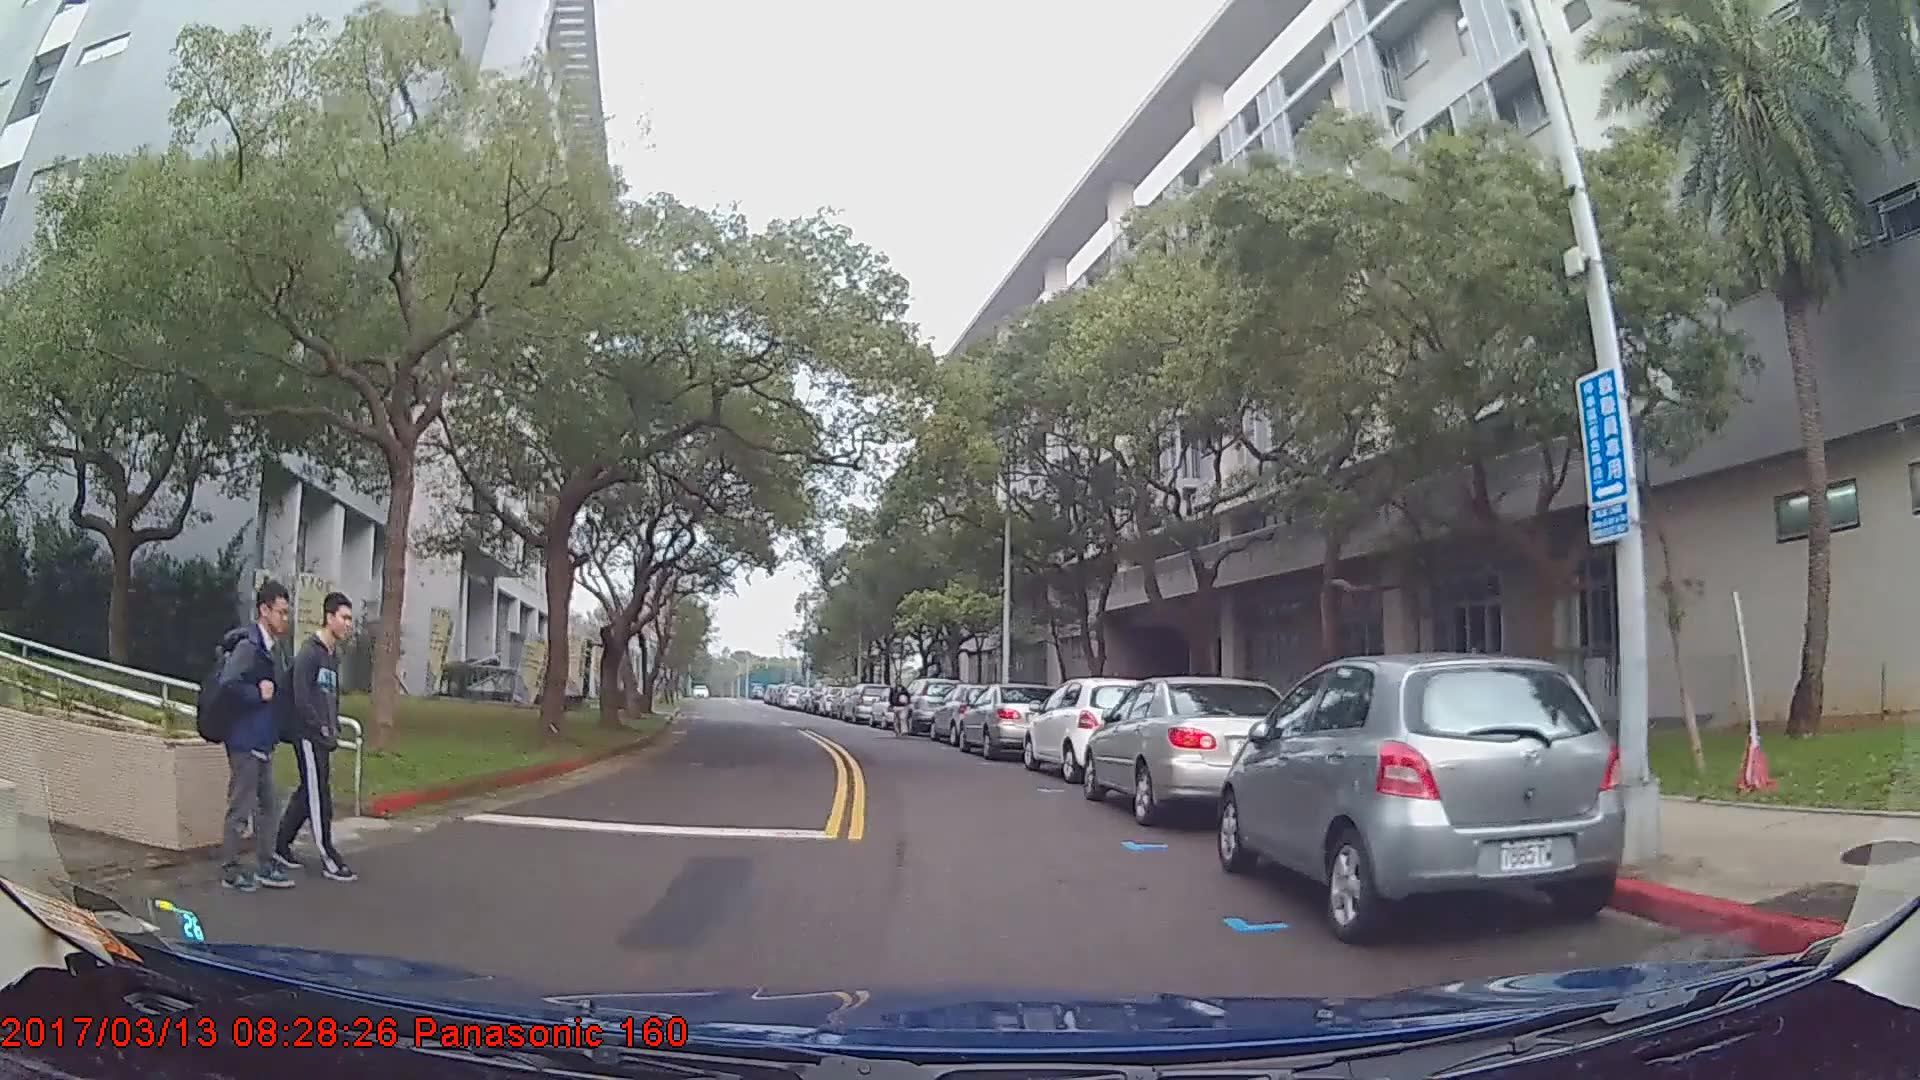pedestrian: (191, 583, 305, 894), (259, 590, 353, 890), (887, 675, 912, 741)
vehicle: (1215, 652, 1625, 941), (1082, 676, 1308, 824), (1021, 673, 1159, 782), (956, 681, 1056, 759), (927, 681, 1012, 746), (897, 675, 962, 735), (840, 682, 889, 723)
